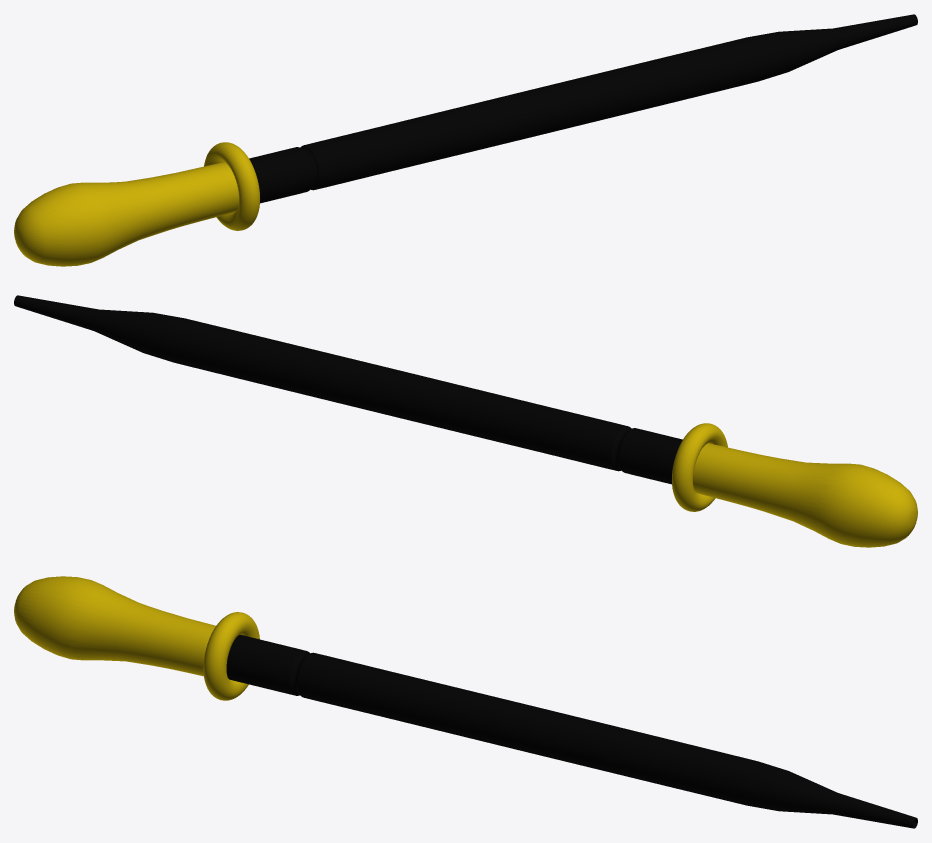
The model's file is pipette_with_substance2.fbx.
The picture shows the model from 3 angles, top to bottom: view 1: azimuth 30°, elevation 25°; view 2: azimuth 150°, elevation 25°; view 3: azimuth 330°, elevation 25°; orthographic projection.
Visible parts, largest first — view 1: Pasteur Pipette; view 2: Pasteur Pipette; view 3: Pasteur Pipette.
Part boxes in pixels (x1,y1,x2,y2): Pasteur Pipette: [14, 14, 917, 266]; Pasteur Pipette: [14, 295, 917, 547]; Pasteur Pipette: [14, 576, 917, 828].
Bounding box in the file's own units: 135 × 11.76 × 11.76.
